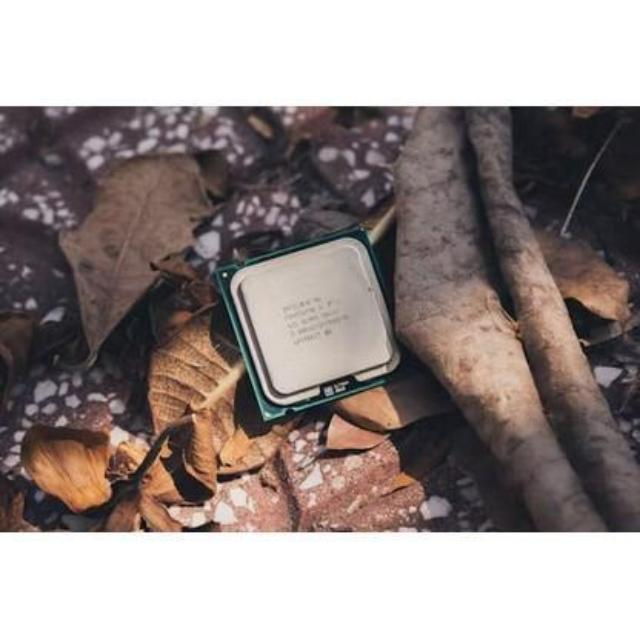CPU: (223, 240, 403, 408)
